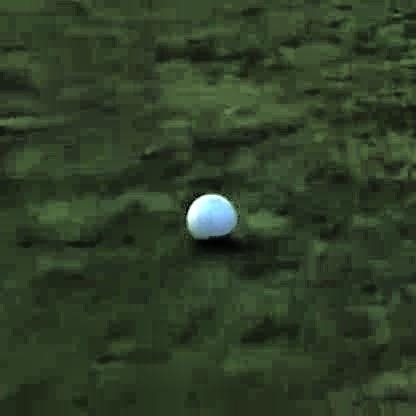golfball: (181, 187, 232, 241)
